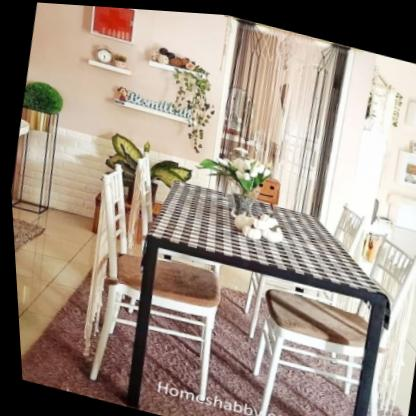Dining Table: (48, 106, 416, 416)
